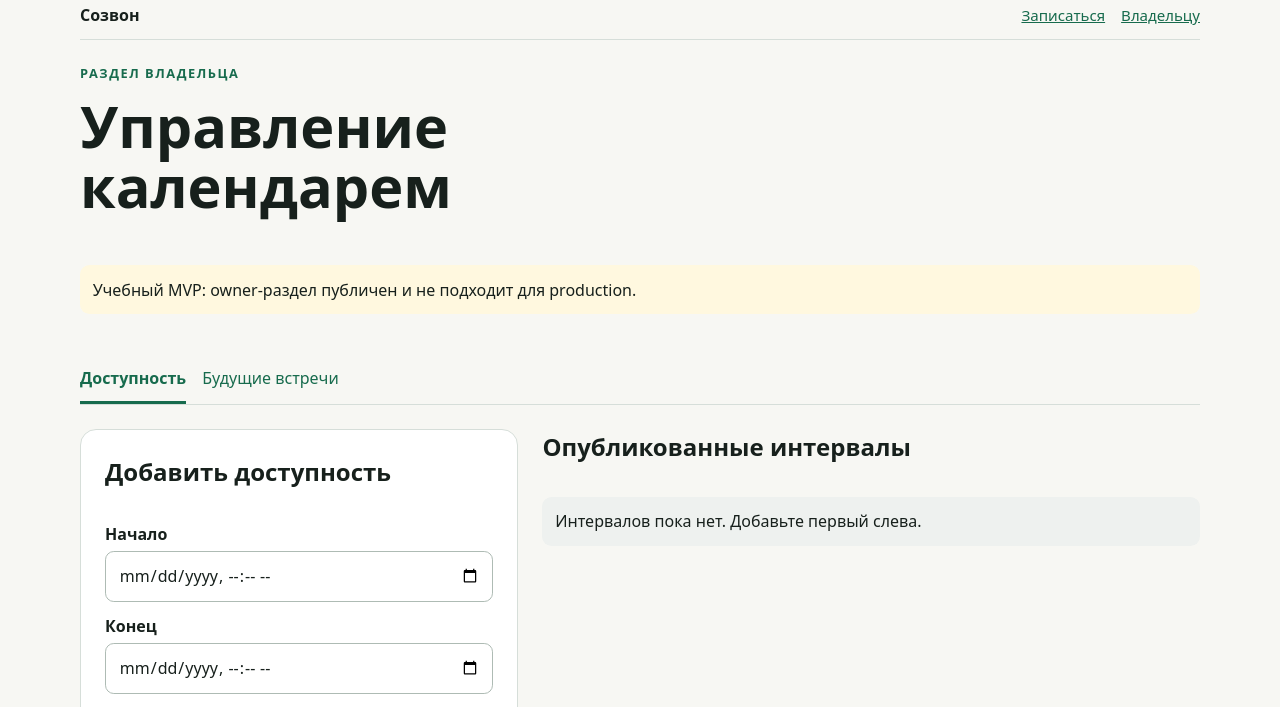
Test: ключевые сценарии на contract mock › создает и удаляет интервал доступности
Expected: the text "Интервалов пока нет. Добавьте первый слева." is shown, 542,497 -> 1200,546
Type "2026-09-03T09:00" into the field labelled "Начало".
click(299, 576); type("2026-09-03T09:00")  # box 105,551 -> 493,602
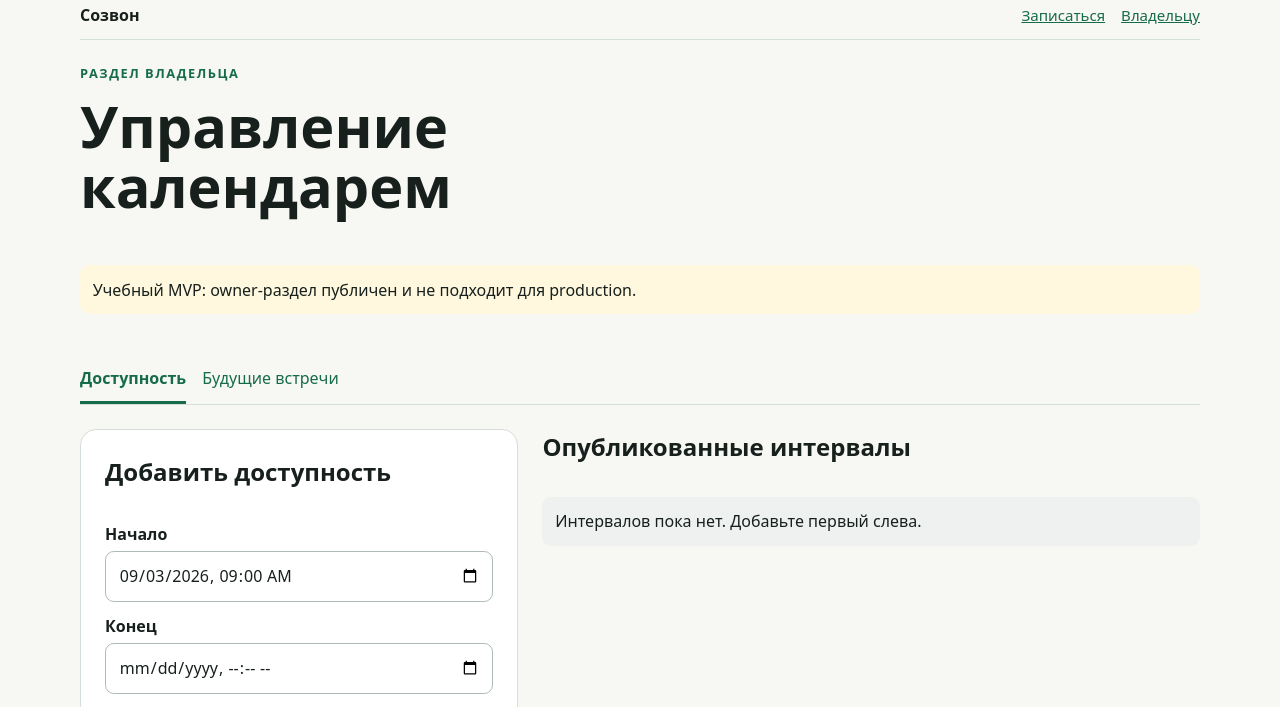
Type "2026-09-03T11:00" into the field labelled "Конец".
click(299, 668); type("2026-09-03T11:00")  # box 105,643 -> 493,694
(page scrolled)
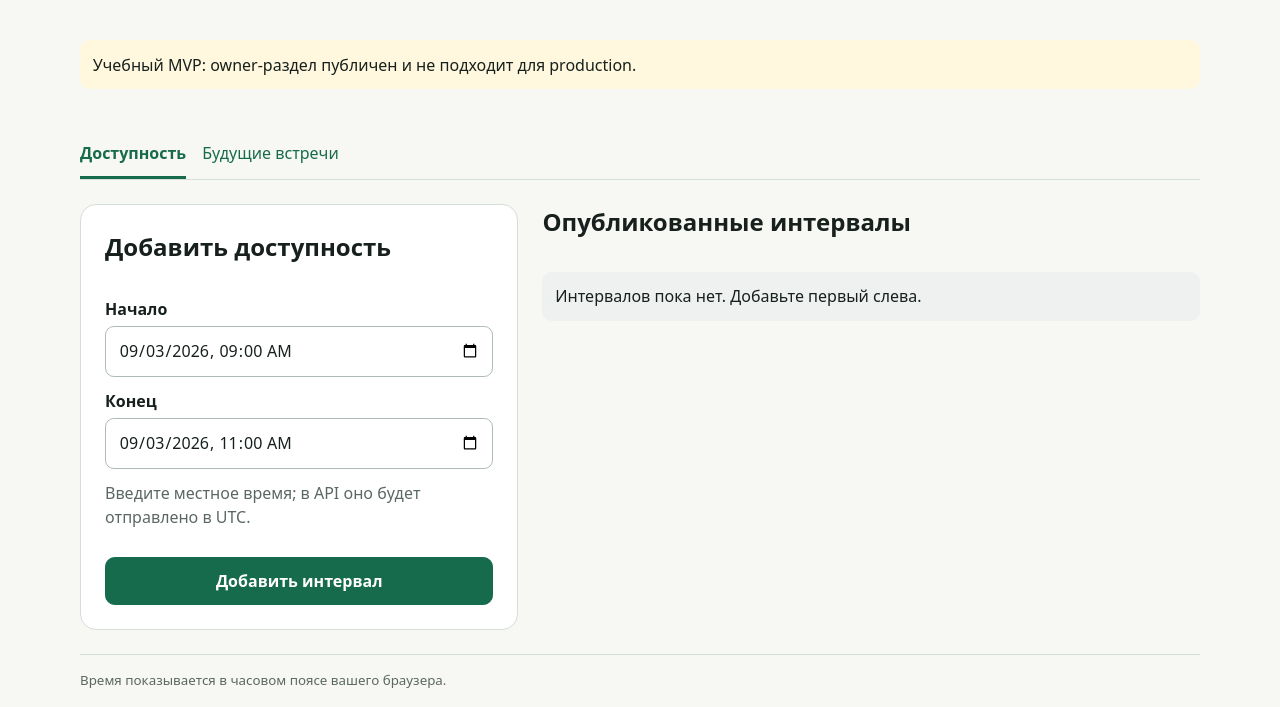
Click the button "Добавить интервал".
click(299, 581)  # box 105,556 -> 493,605
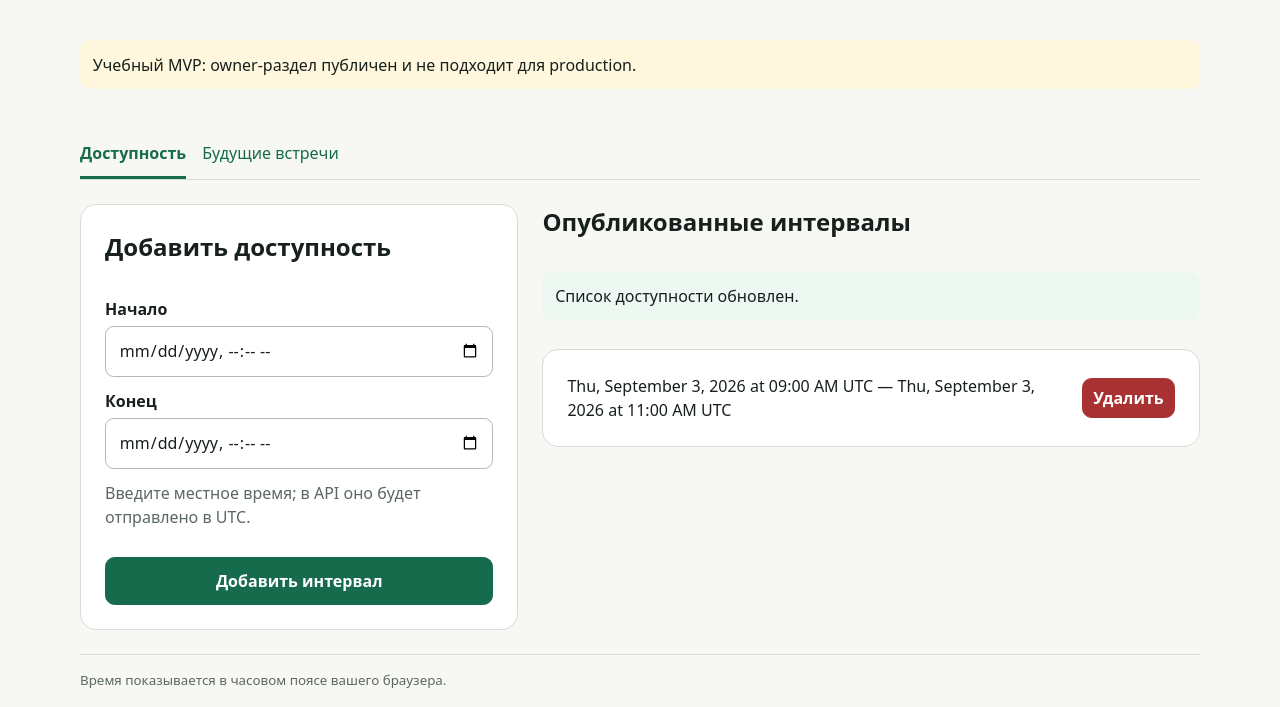
Now the button "Удалить" is shown
Click the button "Удалить".
click(1128, 398)  # box 1082,378 -> 1175,418
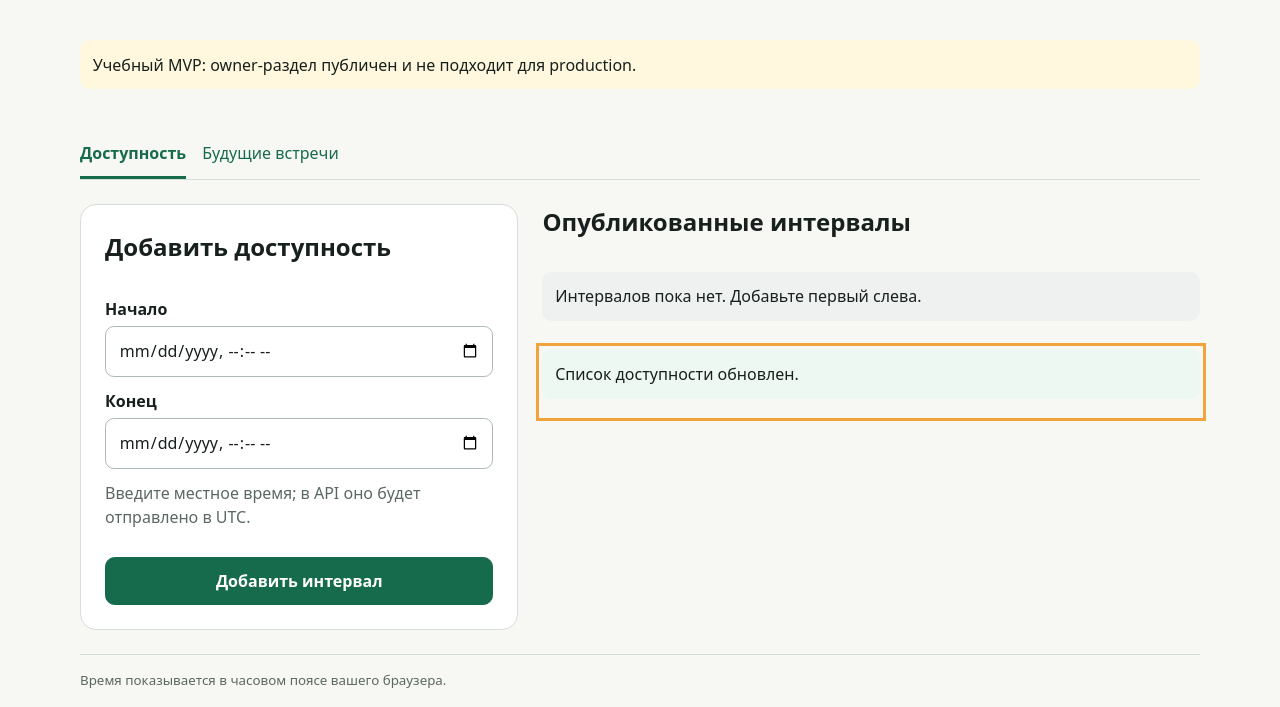
Now the text "Интервалов пока нет. Добавьте первый слева." is shown, box 542,272 -> 1200,321
